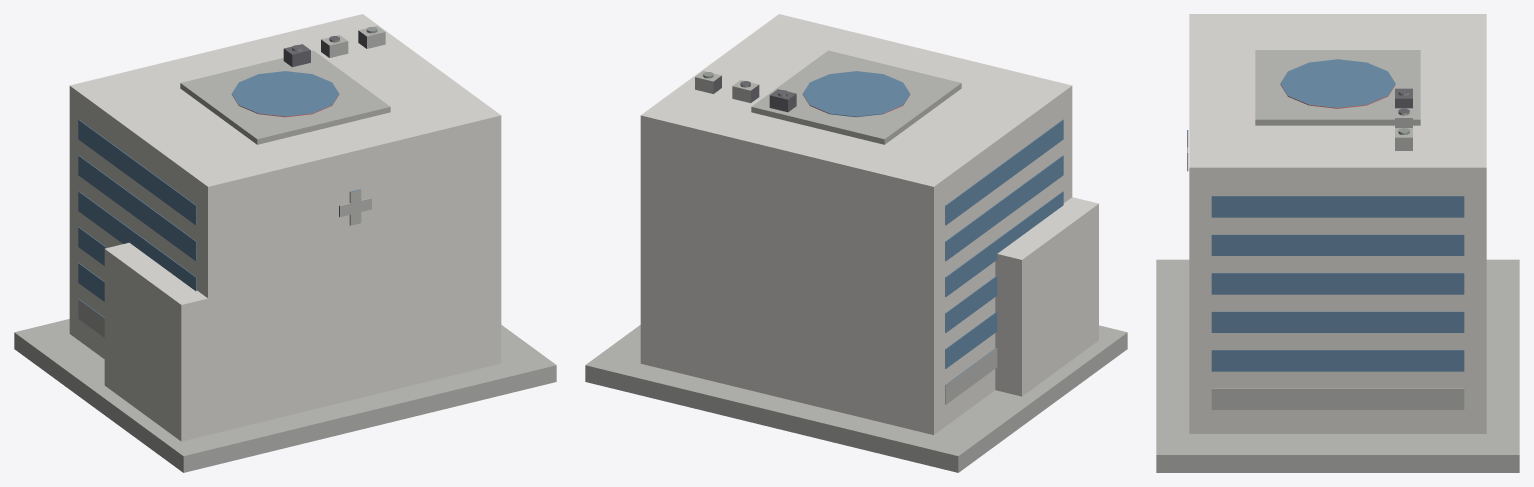
Rendered from hospital_main_complex.glb.
3 renders of one model, left to right at view 1: azimuth 30°, elevation 25°; view 2: azimuth 150°, elevation 25°; view 3: azimuth 270°, elevation 25°, orthographic. The views are drawn at different scales.
Parts seen in each view (by area): view 1: hospital_main_complex; view 2: hospital_main_complex; view 3: hospital_main_complex.
Boxes of the visible parts, left/top/right/bottom form: hospital_main_complex: left=14, top=14, right=556, bottom=472; hospital_main_complex: left=585, top=14, right=1127, bottom=472; hospital_main_complex: left=1156, top=14, right=1519, bottom=472.
Bounding box in the file's own units: 28 × 20.45 × 22.
